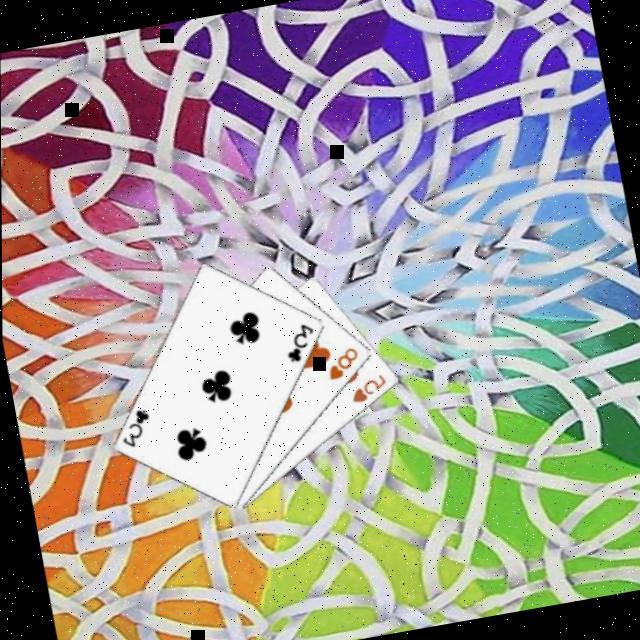3C: (276, 319, 319, 367), (111, 405, 154, 453)
5H: (342, 371, 389, 408)
8H: (319, 344, 363, 385)
